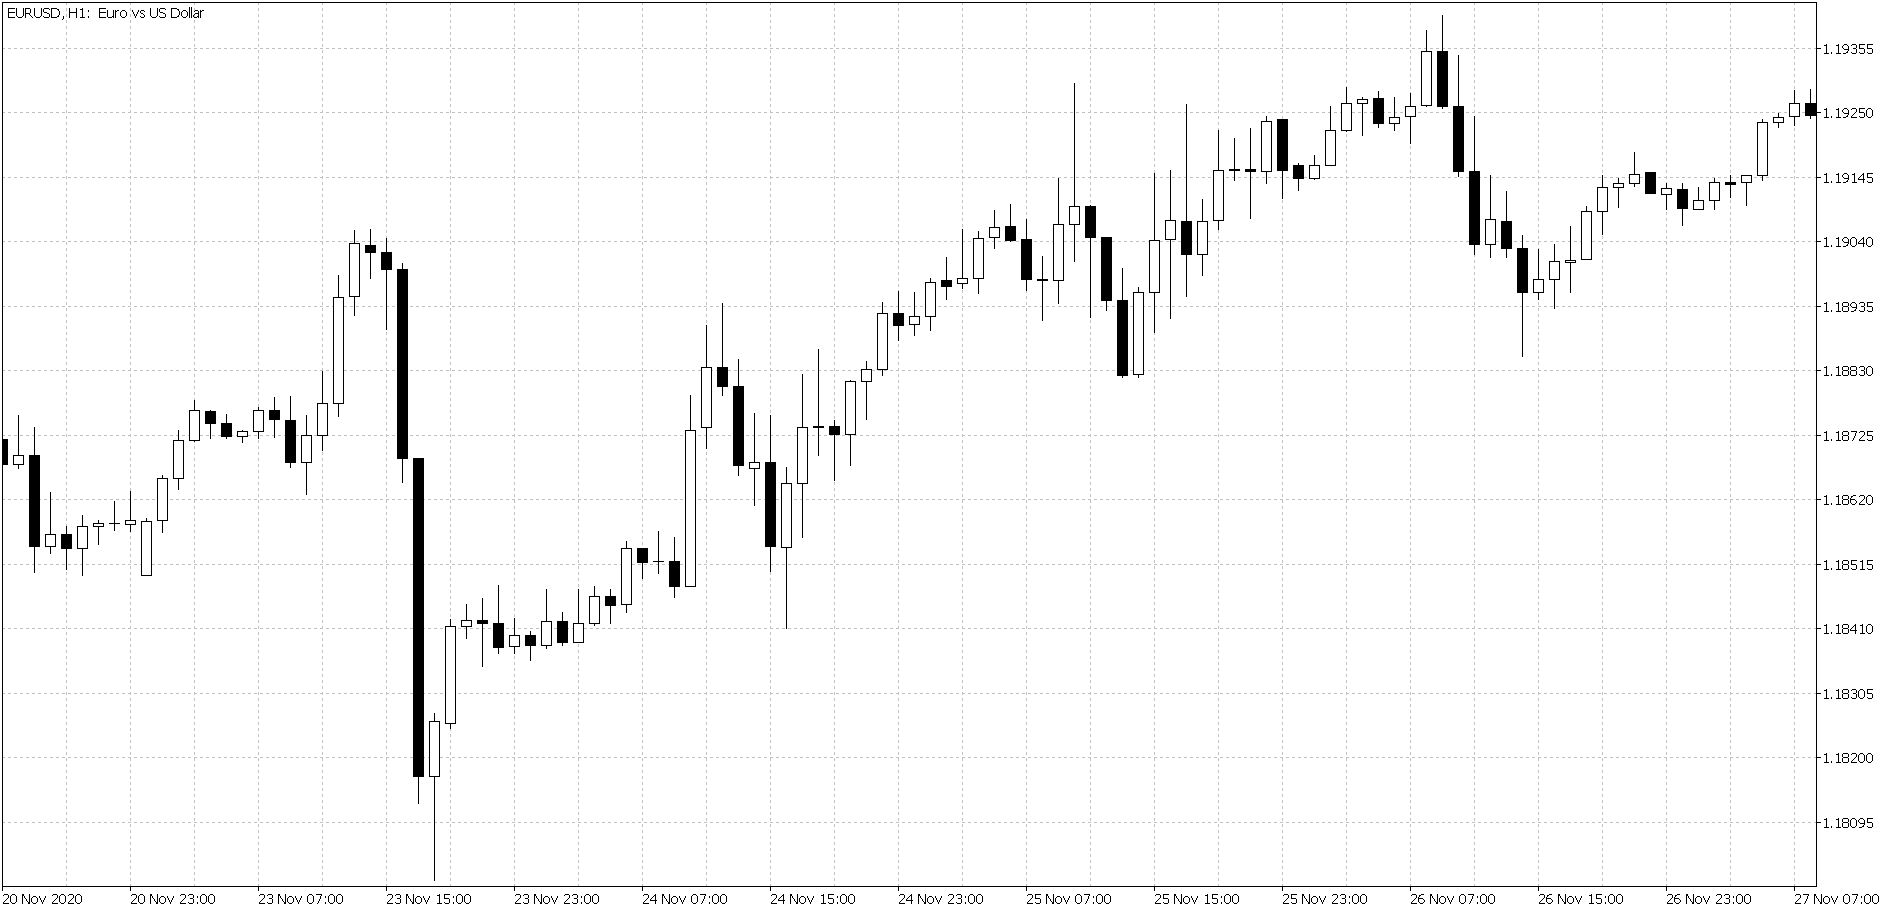3blackcrows: (364, 223, 411, 482), (1433, 23, 1482, 267)
3whitesoldiers: (300, 287, 344, 496)
bullishEngulfing: (1114, 274, 1148, 400)
